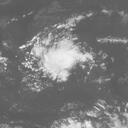cyclone: (41, 39, 85, 83)
